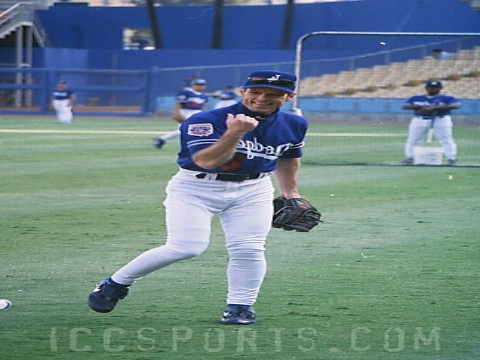hand: (225, 110, 260, 137)
